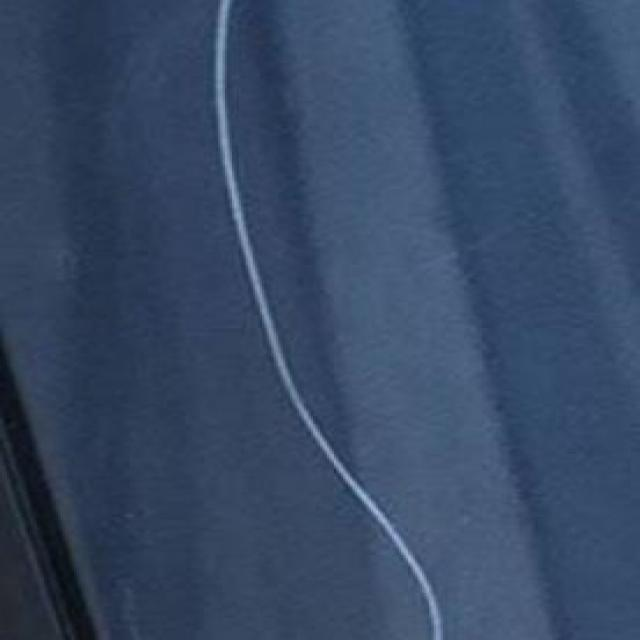scratch: (197, 8, 466, 640)
